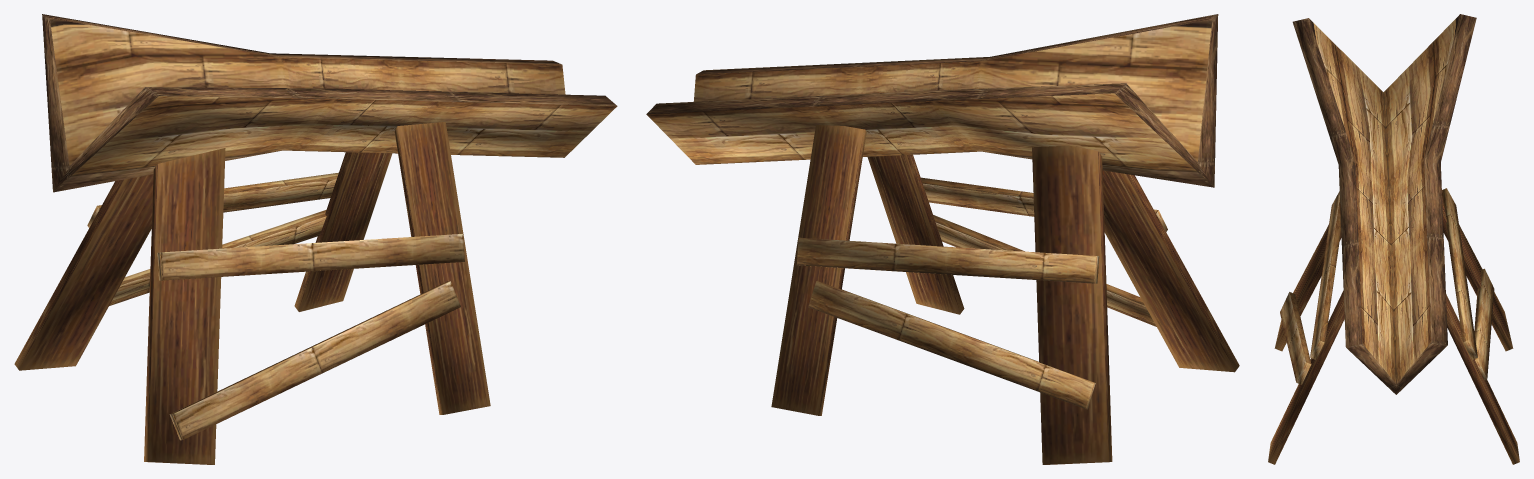
The model's file is miningtroughsmall.obj.
3 renders of one model, left to right at view 1: azimuth 30°, elevation 25°; view 2: azimuth 150°, elevation 25°; view 3: azimuth 270°, elevation 25°, orthographic. The views are drawn at different scales.
Parts seen in each view (by area): view 1: Geoset0, Geoset1; view 2: Geoset0, Geoset1; view 3: Geoset0, Geoset1.
Boxes of the visible parts, left/top/right/bottom form: Geoset0: left=42, top=14, right=617, bottom=440; Geoset1: left=14, top=122, right=490, bottom=464; Geoset0: left=646, top=14, right=1218, bottom=409; Geoset1: left=771, top=125, right=1239, bottom=464; Geoset0: left=1280, top=14, right=1494, bottom=394; Geoset1: left=1268, top=198, right=1519, bottom=464.
Size of the model in its own units: 7.14 by 4.85 by 3.47.
2 materials, 2 textured.
